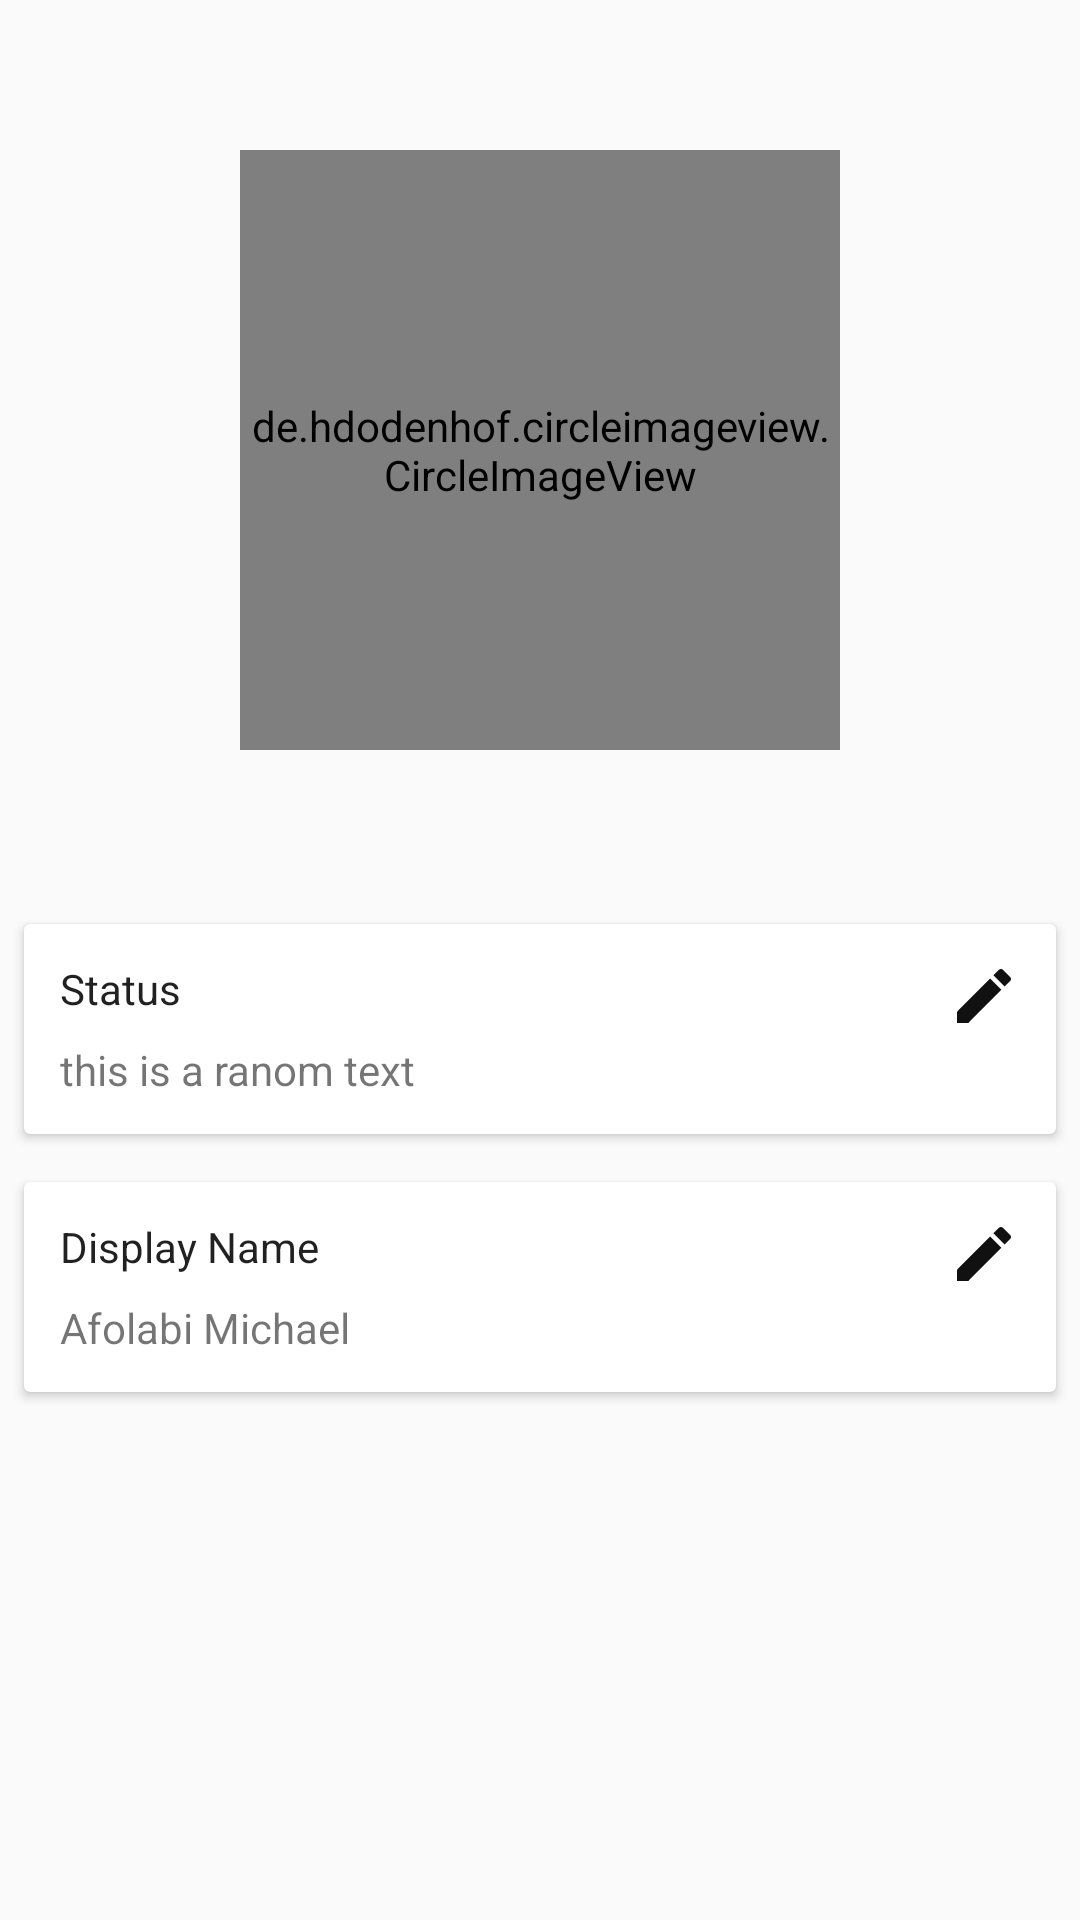

Icons on this 1080*1920 Android screen, each with the point to tap as [x,y]:
edit: [984,996], [984,1254]
